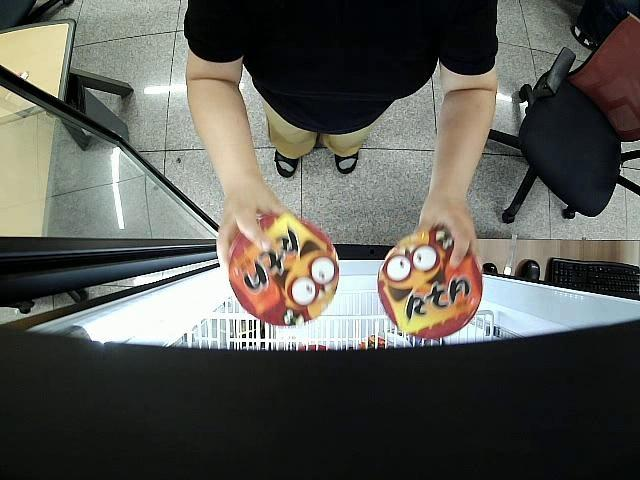05_nuguri_L: (227, 211, 339, 326), (379, 231, 483, 340)
